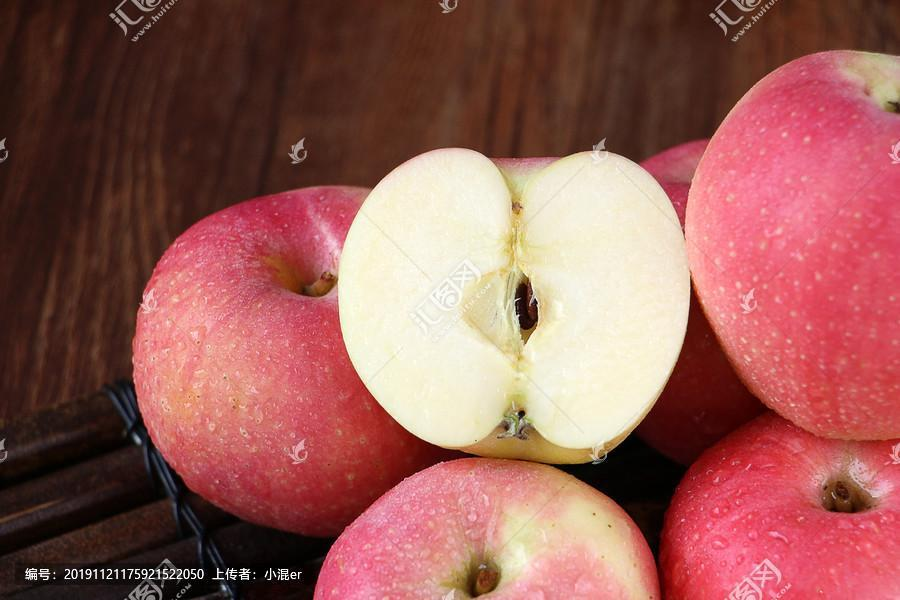apple: (128, 183, 446, 532), (683, 46, 898, 446), (318, 454, 662, 595), (658, 409, 898, 598)
